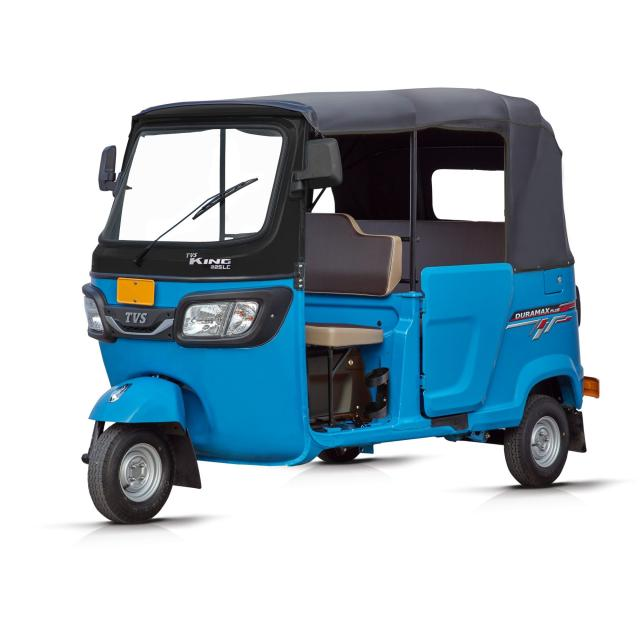autorickshaw: (82, 89, 599, 522)
